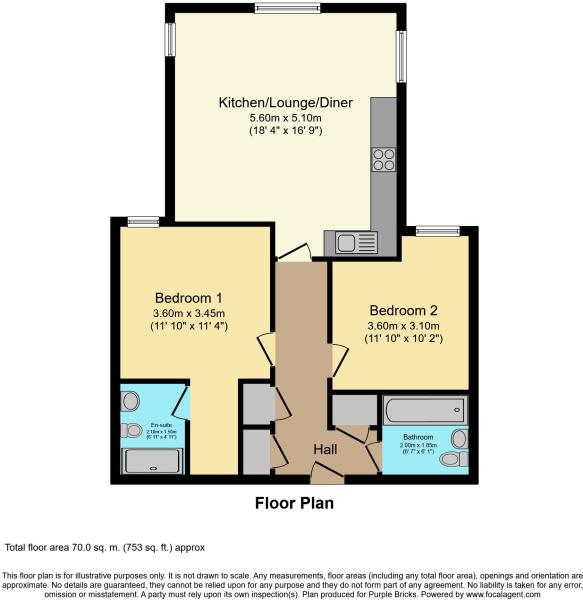GrossArea: (5, 539, 208, 554)
